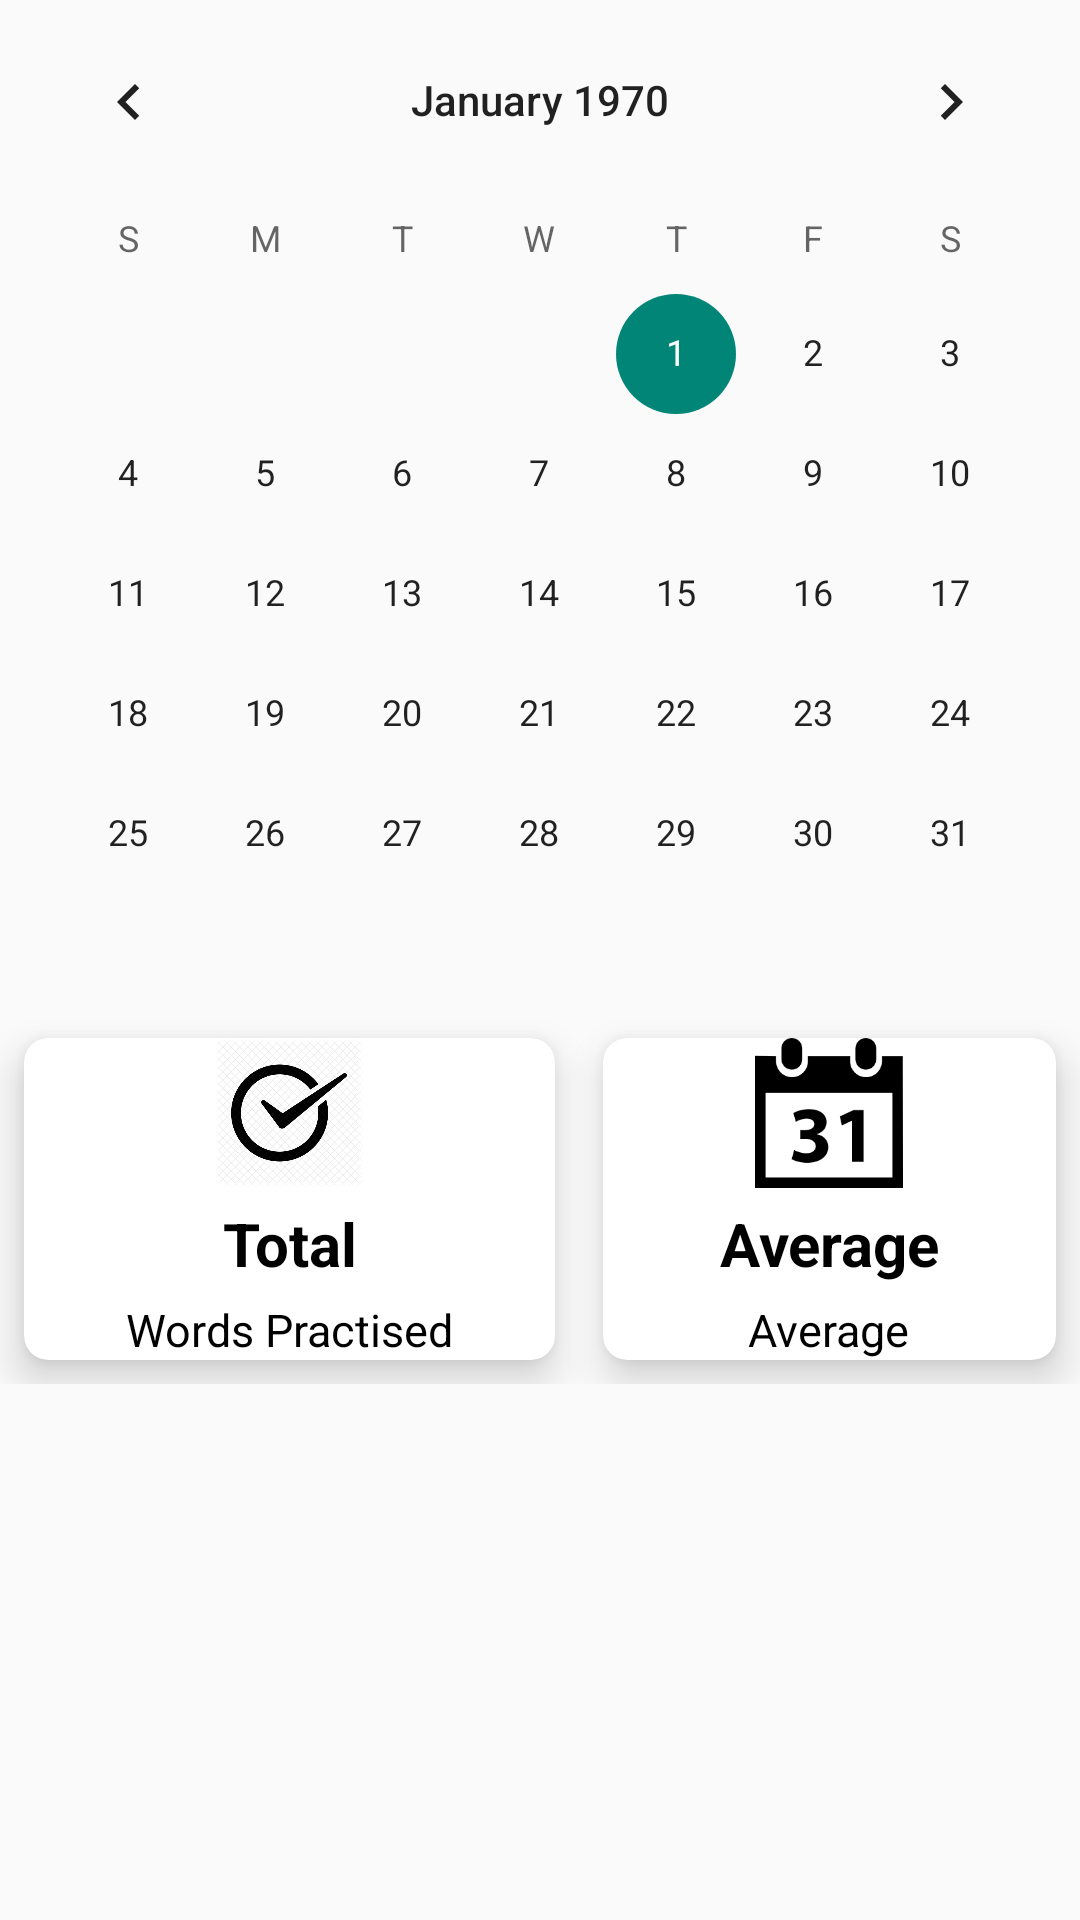

Named icons in this screenshot (1080 x 1920) and their centers, (x,y):
month: (829,1113)
words done: (289,1113)
